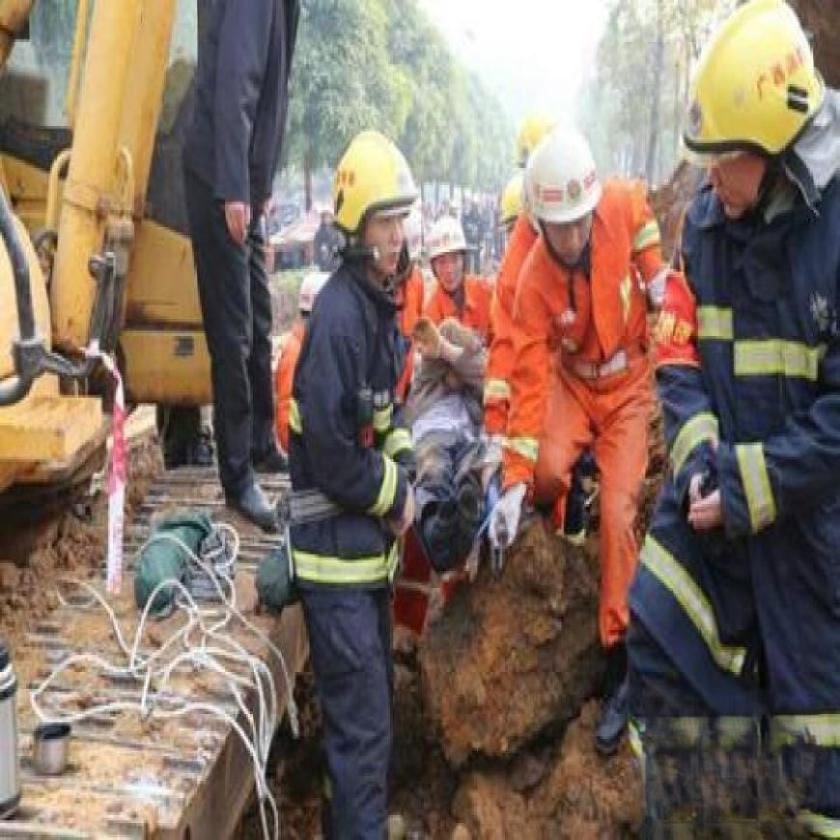Con_casco: (686, 0, 818, 230), (513, 115, 613, 276), (327, 114, 420, 284), (425, 204, 486, 311)
